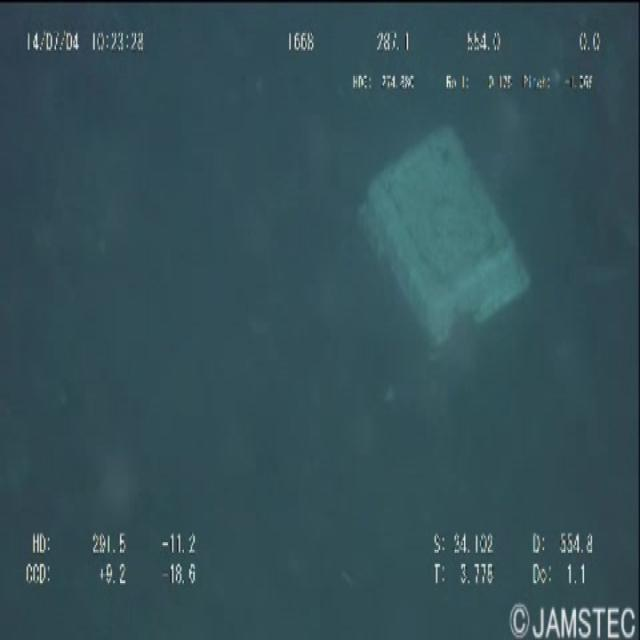Cutlery: (351, 125, 536, 361)
